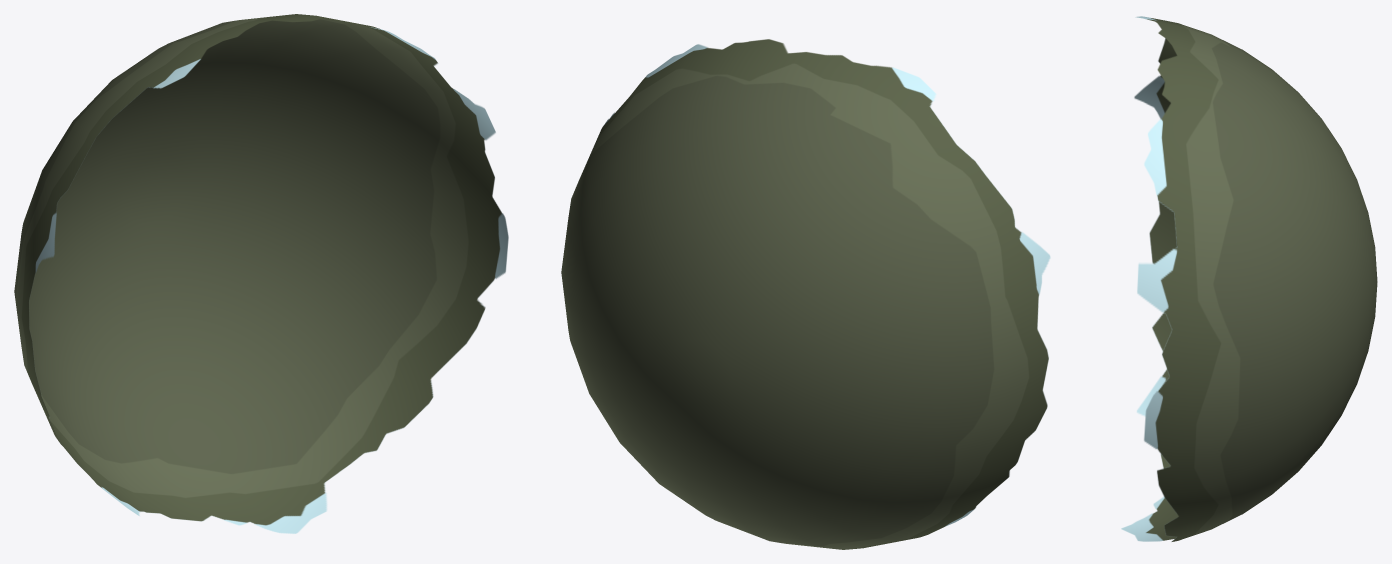
The model's file is mountain.glb.
The picture shows the model from 3 angles, left to right: view 1: azimuth 30°, elevation 25°; view 2: azimuth 150°, elevation 25°; view 3: azimuth 270°, elevation 25°; orthographic projection. The views are drawn at different scales.
Parts seen in each view (by area): view 1: MountainSkybox; view 2: MountainSkybox; view 3: MountainSkybox.
Boxes of the visible parts, x1,y1,x2,y2 form: MountainSkybox: (14, 14, 508, 533); MountainSkybox: (561, 39, 1050, 549); MountainSkybox: (1121, 16, 1377, 541).
Size of the model in its own units: 203 by 203 by 102.
Materials: 1 (1 with a texture image).
